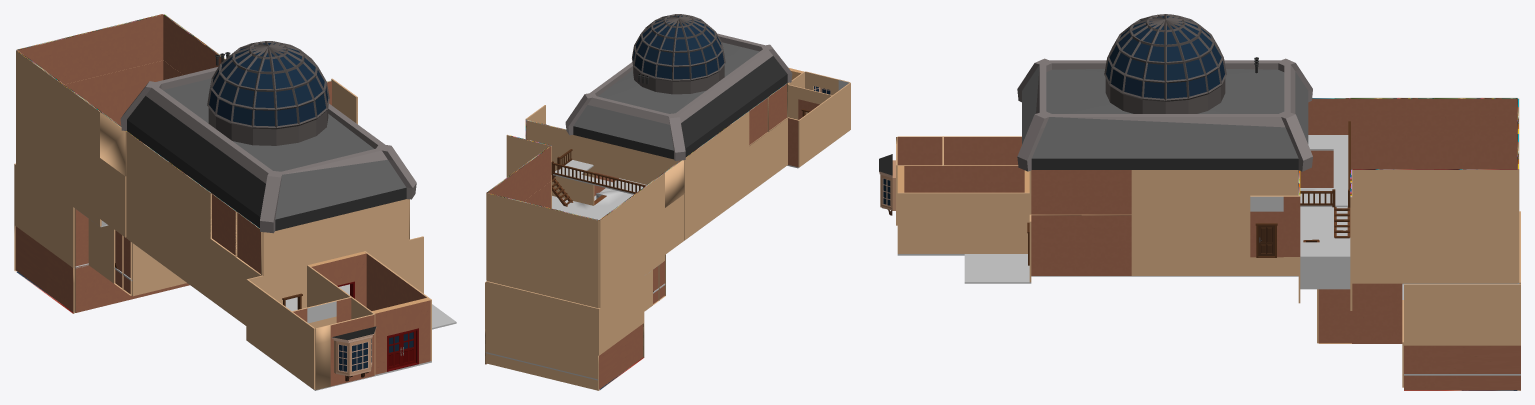
The model's file is Escenari_modular.fbx.
The picture shows the model from 3 angles, left to right: view 1: azimuth 30°, elevation 25°; view 2: azimuth 150°, elevation 25°; view 3: azimuth 270°, elevation 25°; orthographic projection. The views are drawn at different scales.
Visible parts, largest first — view 1: floor_roof_skewed_frame_dome_steampunk, wall_plain_3x4m_ext.013, wall_plain_5x4m_ext.026, wall_plain_5x4m_ext.013, wall_plain_5x4m_ext.014, wall_plain_5x4m_ext.009, wall_plain_5x4m_ext.021, wall_plain_3x4m_ext.014, wall_plain_5x4m_ext.001, wall_plain_5x4m_ext.002, wall_door_double_regular_3x3m_ext.002, wall_plain_5x4m_ext.025 (+35 smaller); view 2: floor_roof_skewed_frame_dome_steampunk, wall_plain_5x4m_ext.027, wall_plain_5x4m_ext.025, wall_plain_5x4m_ext.019, wall_plain_5x4m_ext.020, wall_plain_3x4m_ext.013, wall_plain_5x4m_ext.028, wall_plain_5x4m_ext.026, wall_plain_5x4m_ext.015, wall_plain_5x4m_ext.018, wall_plain_5x4m_ext.021, wall_plain_5x4m_ext.009 (+31 smaller); view 3: floor_roof_skewed_frame_dome_steampunk, wall_plain_3x4m_ext.011, wall_plain_5x4m_ext.023, wall_plain_5x4m_ext.011, wall_plain_3x4m_ext.012, wall_plain_5x4m_ext.006, wall_plain_4x4m_ext.005, wall_plain_4x4m_ext.004, wall_plain_5x4m_ext.022, wall_plain_5x4m_ext.024, wall_plain_5x4m_ext.010, wall_plain_5x4m_ext.007 (+26 smaller).
Boxes of the visible parts, bbox=[...] form: floor_roof_skewed_frame_dome_steampunk: bbox=[120, 41, 416, 233]; wall_plain_3x4m_ext.013: bbox=[14, 163, 74, 267]; wall_plain_5x4m_ext.026: bbox=[90, 14, 163, 77]; wall_plain_5x4m_ext.013: bbox=[262, 216, 336, 275]; wall_plain_5x4m_ext.014: bbox=[336, 199, 409, 257]; wall_plain_5x4m_ext.009: bbox=[58, 127, 101, 226]; wall_plain_5x4m_ext.021: bbox=[16, 96, 57, 195]; wall_plain_3x4m_ext.014: bbox=[14, 225, 74, 313]; wall_plain_5x4m_ext.001: bbox=[126, 177, 168, 268]; wall_plain_5x4m_ext.002: bbox=[168, 208, 210, 299]; wall_door_double_regular_3x3m_ext.002: bbox=[372, 298, 430, 374]; wall_plain_5x4m_ext.025: bbox=[90, 60, 163, 125]; floor_roof_skewed_frame_dome_steampunk: bbox=[565, 14, 792, 160]; wall_plain_5x4m_ext.027: bbox=[542, 242, 599, 308]; wall_plain_5x4m_ext.025: bbox=[486, 228, 542, 294]; wall_plain_5x4m_ext.019: bbox=[486, 281, 542, 341]; wall_plain_5x4m_ext.020: bbox=[542, 295, 597, 355]; wall_plain_3x4m_ext.013: bbox=[598, 276, 644, 355]; wall_plain_5x4m_ext.028: bbox=[542, 206, 599, 255]; wall_plain_5x4m_ext.026: bbox=[486, 193, 542, 241]; wall_plain_5x4m_ext.015: bbox=[486, 328, 541, 376]; wall_plain_5x4m_ext.018: bbox=[542, 342, 597, 390]; wall_plain_5x4m_ext.021: bbox=[599, 232, 632, 307]; wall_plain_5x4m_ext.009: bbox=[632, 208, 664, 283]; floor_roof_skewed_frame_dome_steampunk: bbox=[1017, 14, 1312, 171]; wall_plain_3x4m_ext.011: bbox=[1404, 284, 1520, 345]; wall_plain_5x4m_ext.023: bbox=[1434, 215, 1517, 283]; wall_plain_5x4m_ext.011: bbox=[1352, 215, 1433, 283]; wall_plain_3x4m_ext.012: bbox=[1404, 345, 1520, 390]; wall_plain_5x4m_ext.006: bbox=[1131, 215, 1215, 275]; wall_plain_4x4m_ext.005: bbox=[897, 192, 964, 253]; wall_plain_4x4m_ext.004: bbox=[964, 192, 1029, 253]; wall_plain_5x4m_ext.022: bbox=[1434, 97, 1517, 143]; wall_plain_5x4m_ext.024: bbox=[1434, 169, 1517, 215]; wall_plain_5x4m_ext.010: bbox=[1350, 97, 1433, 143]; wall_plain_5x4m_ext.007: bbox=[1131, 170, 1215, 215].
Size of the model in its own units: 1535 by 2219 by 3841.
